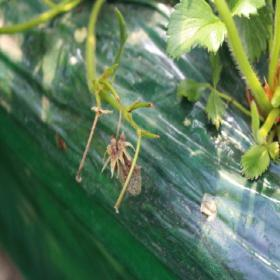Gray Mold: (101, 128, 143, 196)
